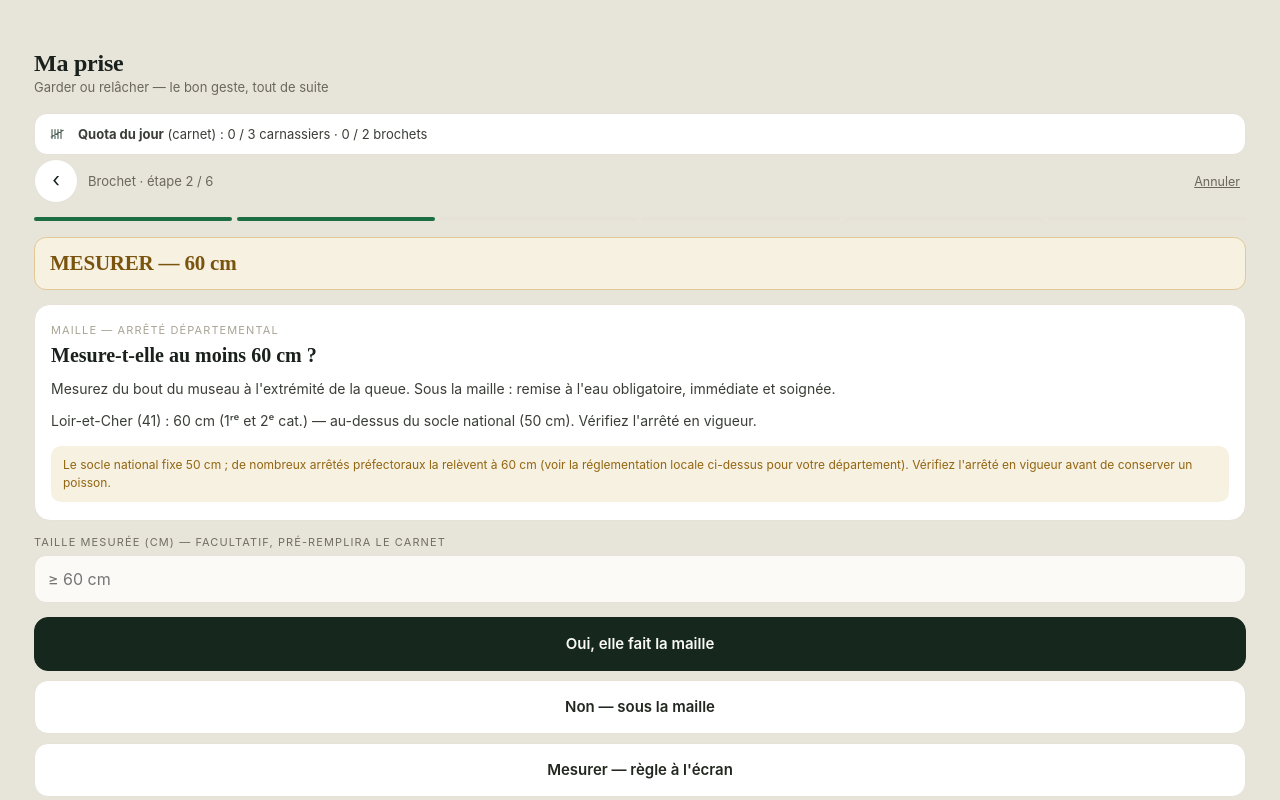
Scenario: Prise — le geste retour recule d'une étape › le « ‹ » de l'écran fait exactement la même chose
The image size is (1280, 800).
Check: the text "Brochet · étape 2 / 6" is shown, box [88, 173, 213, 189]
What coordinates should you click on to do the following:
click the button named "Étape précédente"
I would click on:
 (56, 181)
Its box is [34, 159, 78, 203].
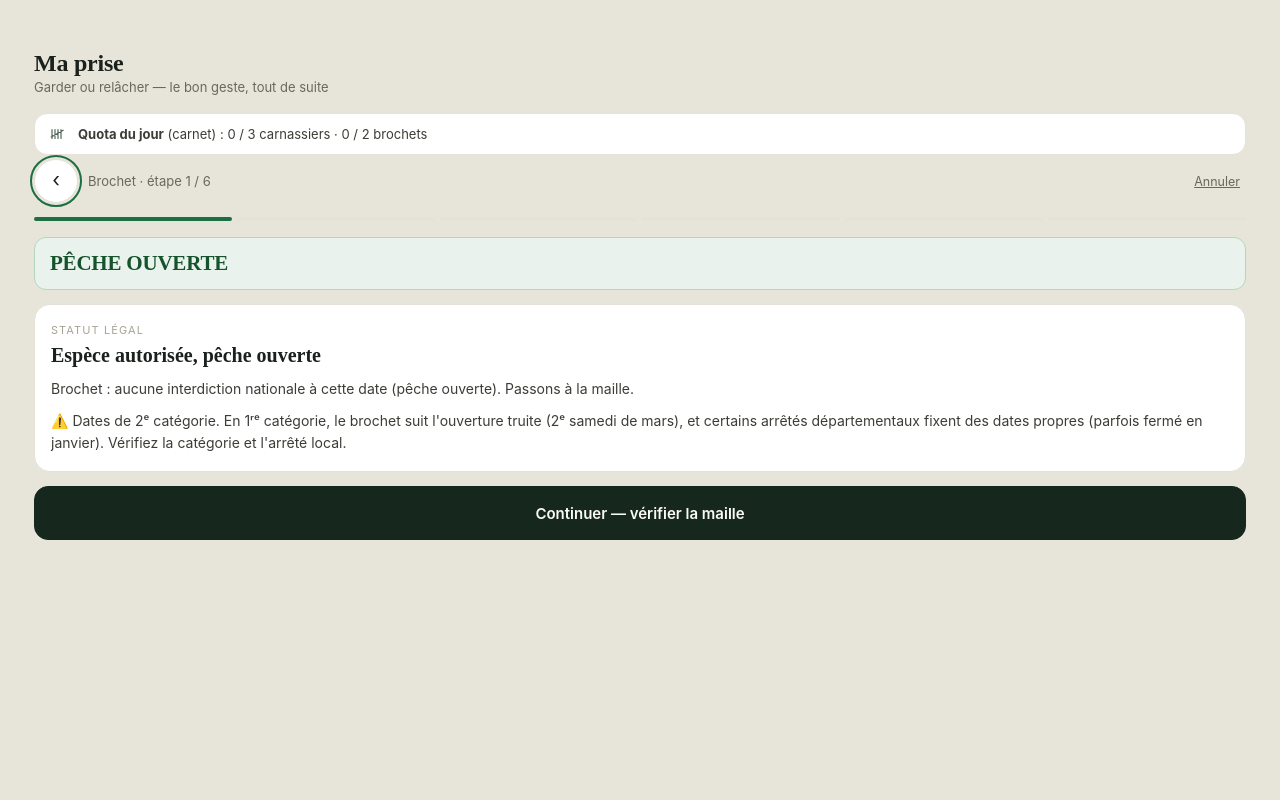
Check: the text "Brochet · étape 1 / 6" is shown, box [88, 173, 211, 189]
